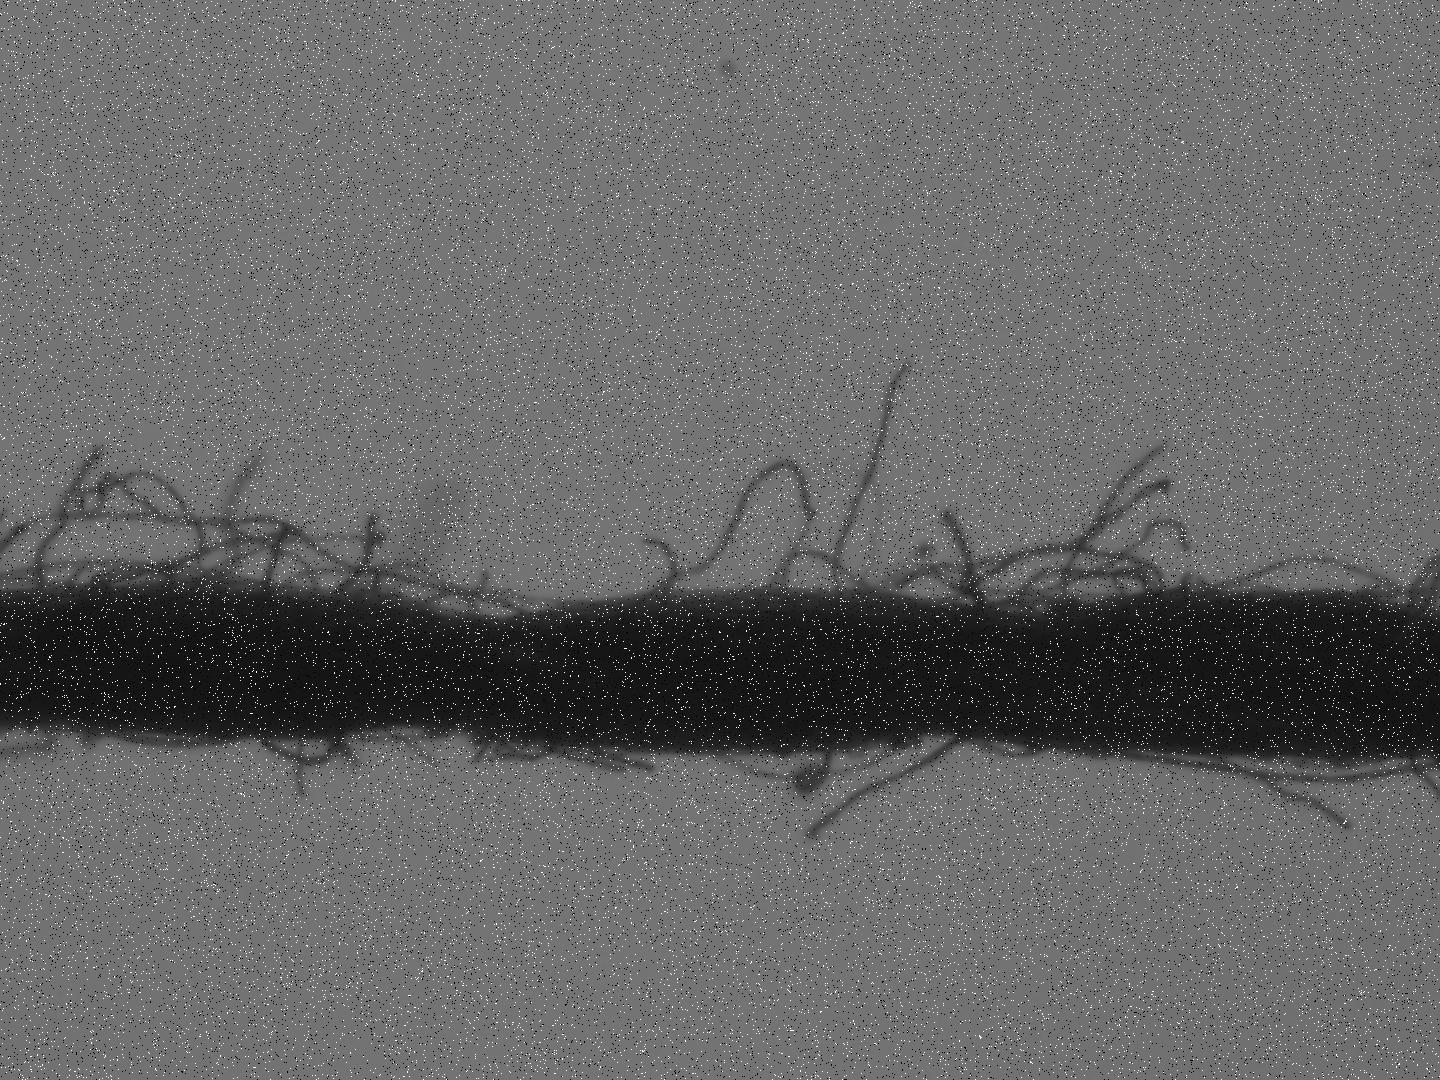loop_fiber: (948, 543, 1157, 615), (1193, 552, 1412, 605), (31, 448, 105, 594), (3, 560, 220, 604), (1003, 569, 1157, 619), (723, 737, 900, 779), (269, 566, 379, 609), (777, 550, 873, 597), (66, 731, 234, 752), (424, 588, 523, 618), (254, 734, 341, 768), (85, 567, 171, 601), (955, 735, 1045, 766), (338, 727, 450, 746), (973, 601, 1043, 628)
protruding_fiber: (630, 463, 815, 610), (830, 361, 914, 597), (1060, 445, 1171, 608), (805, 737, 954, 839), (1211, 751, 1352, 836), (942, 512, 991, 618), (328, 511, 378, 602), (298, 739, 310, 799)
